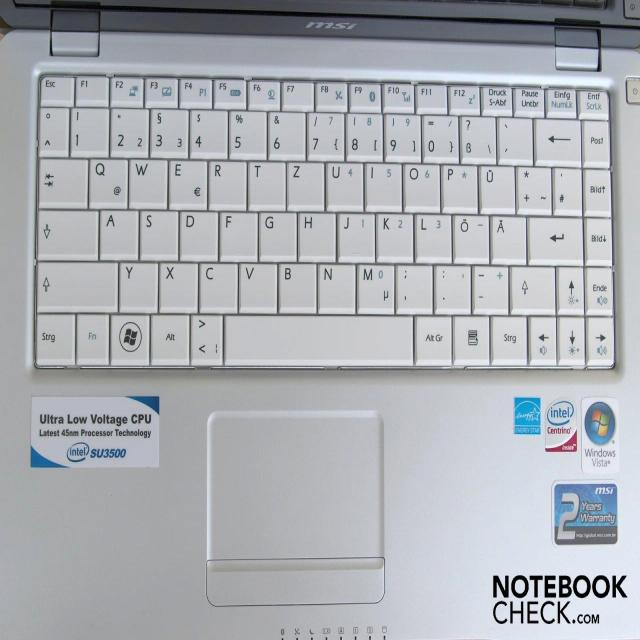0: (421, 112, 458, 162)
1: (69, 103, 108, 155)
2: (108, 105, 148, 155)
3: (148, 104, 188, 156)
4: (189, 105, 227, 156)
5: (227, 107, 265, 157)
6: (267, 107, 305, 158)
7: (306, 109, 344, 158)
8: (345, 109, 382, 160)
9: (383, 110, 421, 160)
a: (98, 205, 138, 257)
accent: (496, 113, 531, 161)
ae: (490, 212, 526, 262)
alt-left: (150, 310, 190, 363)
altgr-right: (413, 312, 452, 364)
b: (276, 259, 316, 311)
c: (198, 259, 238, 311)
caret: (37, 104, 67, 155)
comma: (394, 260, 432, 311)
d: (178, 207, 218, 259)
del: (533, 115, 581, 161)
e: (167, 155, 207, 208)
enter: (527, 213, 583, 261)
f: (218, 208, 256, 258)
g: (257, 207, 295, 259)
h: (297, 209, 335, 258)
hash: (552, 164, 582, 213)
i: (365, 159, 402, 207)
j: (336, 209, 374, 258)
k: (375, 209, 413, 260)
keyboard: (27, 63, 622, 377)
l: (414, 209, 451, 260)
less: (188, 311, 222, 365)
m: (355, 260, 393, 312)
minus: (472, 262, 509, 312)
n: (316, 260, 354, 311)
o: (401, 159, 439, 209)
oe: (452, 211, 489, 261)
p: (440, 161, 477, 209)
plus: (515, 162, 551, 212)
point: (433, 261, 471, 310)
q: (87, 155, 127, 207)
r: (207, 157, 246, 208)
s: (138, 206, 178, 258)
shift-left: (35, 257, 117, 307)
shift-lock: (35, 205, 97, 256)
shift-right: (509, 262, 556, 311)
space: (222, 312, 412, 364)
ss: (459, 113, 495, 162)
strg-left: (33, 309, 74, 365)
strg-right: (490, 311, 527, 363)
t: (247, 158, 285, 208)
tab: (37, 154, 87, 204)
u: (324, 158, 363, 208)
ue: (478, 161, 514, 211)
v: (237, 259, 277, 311)
w: (127, 155, 167, 206)
x: (158, 258, 198, 311)
y: (118, 258, 158, 310)
z: (285, 157, 323, 209)
